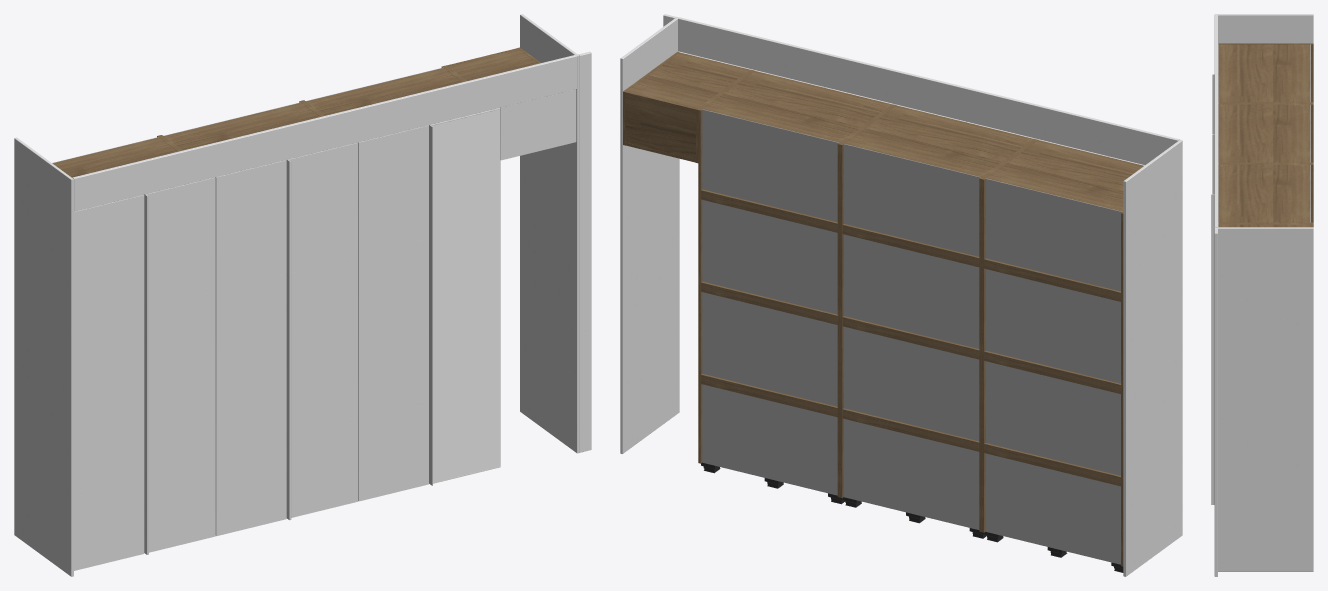
Rendered from THST00315.glb.
3 views of the same model, side by side, from view 1: azimuth 30°, elevation 25°; view 2: azimuth 150°, elevation 25°; view 3: azimuth 270°, elevation 25° (orthographic). The views are drawn at different scales.
Visible parts, largest first — view 1: node_1420_StaticMeshComponent0, node_1211_StaticMeshComponent0, node_1044_StaticMeshComponent0, node_1216_StaticMeshComponent0, node_1425_StaticMeshComponent0, node_1050_StaticMeshComponent0, node_632_StaticMeshComponent0, node_1512_StaticMeshComponent0, node_1245_StaticMeshComponent0, node_1549_StaticMeshComponent0, node_1555_StaticMeshComponent0, node_1430_StaticMeshComponent0 (+11 smaller); view 2: node_1431_StaticMeshComponent0, node_1054_StaticMeshComponent0, node_1222_StaticMeshComponent0, node_632_StaticMeshComponent0, node_1512_StaticMeshComponent0, node_1245_StaticMeshComponent0, node_1053_StaticMeshComponent0, node_1430_StaticMeshComponent0, node_1221_StaticMeshComponent0, node_1560_StaticMeshComponent0, node_1563_StaticMeshComponent0, node_1224_StaticMeshComponent0 (+17 smaller); view 3: node_1512_StaticMeshComponent0, node_1053_StaticMeshComponent0, node_1430_StaticMeshComponent0, node_1221_StaticMeshComponent0, node_632_StaticMeshComponent0, node_1550_StaticMeshComponent0, node_1052_StaticMeshComponent0, node_1246_StaticMeshComponent0, node_1513_StaticMeshComponent0, node_1432_StaticMeshComponent0, node_1055_StaticMeshComponent0, node_1223_StaticMeshComponent0 (+8 smaller).
Part boxes in pixels (x1,y1,x2,y2): node_1420_StaticMeshComponent0: (216,160,286,535); node_1211_StaticMeshComponent0: (74,195,144,570); node_1044_StaticMeshComponent0: (359,126,428,501); node_1216_StaticMeshComponent0: (146,178,215,552); node_1425_StaticMeshComponent0: (289,143,357,517); node_1050_StaticMeshComponent0: (432,109,499,482); node_632_StaticMeshComponent0: (14,138,70,576); node_1512_StaticMeshComponent0: (520,15,576,452); node_1245_StaticMeshComponent0: (74,56,576,211); node_1549_StaticMeshComponent0: (580,53,591,452); node_1555_StaticMeshComponent0: (501,89,575,159); node_1430_StaticMeshComponent0: (164,102,320,150); node_1431_StaticMeshComponent0: (844,144,980,529); node_1054_StaticMeshComponent0: (702,109,838,495); node_1222_StaticMeshComponent0: (985,178,1122,564); node_632_StaticMeshComponent0: (1126,141,1182,576); node_1512_StaticMeshComponent0: (623,19,679,453); node_1245_StaticMeshComponent0: (678,19,1177,164); node_1053_StaticMeshComponent0: (703,71,891,142); node_1430_StaticMeshComponent0: (844,105,1033,176); node_1221_StaticMeshComponent0: (986,140,1143,211); node_1560_StaticMeshComponent0: (625,52,749,112); node_1563_StaticMeshComponent0: (625,95,695,159); node_1224_StaticMeshComponent0: (981,139,1037,532); node_1512_StaticMeshComponent0: (1218,228,1313,571); node_1053_StaticMeshComponent0: (1219,164,1310,222); node_1430_StaticMeshComponent0: (1219,104,1310,162); node_1221_StaticMeshComponent0: (1219,44,1310,102); node_632_StaticMeshComponent0: (1218,15,1313,73); node_1550_StaticMeshComponent0: (1214,228,1217,576); node_1052_StaticMeshComponent0: (1211,194,1214,504); node_1246_StaticMeshComponent0: (1214,14,1217,227); node_1513_StaticMeshComponent0: (1214,227,1313,571); node_1432_StaticMeshComponent0: (1218,103,1313,162); node_1055_StaticMeshComponent0: (1218,163,1313,222); node_1223_StaticMeshComponent0: (1218,43,1313,102).
Size of the model in its own units: 3.29 by 2.4 by 0.6463.
11 materials, 7 textured.
